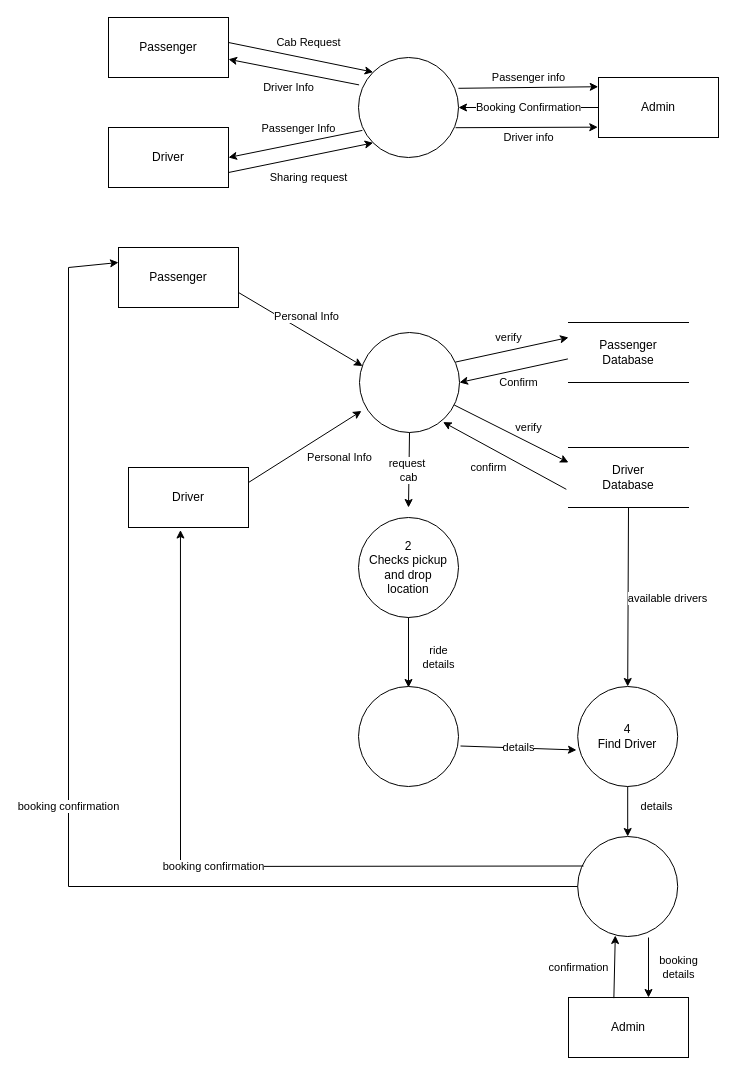
Some shapes in this 736 by 1075 pixel diagram are drawn without their labels. Each missing label, with the centre of its shape:
"0 Car Ride Sharing Application" belongs at point (408, 107).
"1 Register and login" belongs at point (409, 382).
"3 Calculate Cost" belongs at point (408, 736).
"5 Confirm booking" belongs at point (627, 886).
